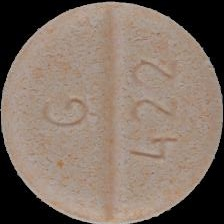0115-4222: (0, 0, 224, 224)
